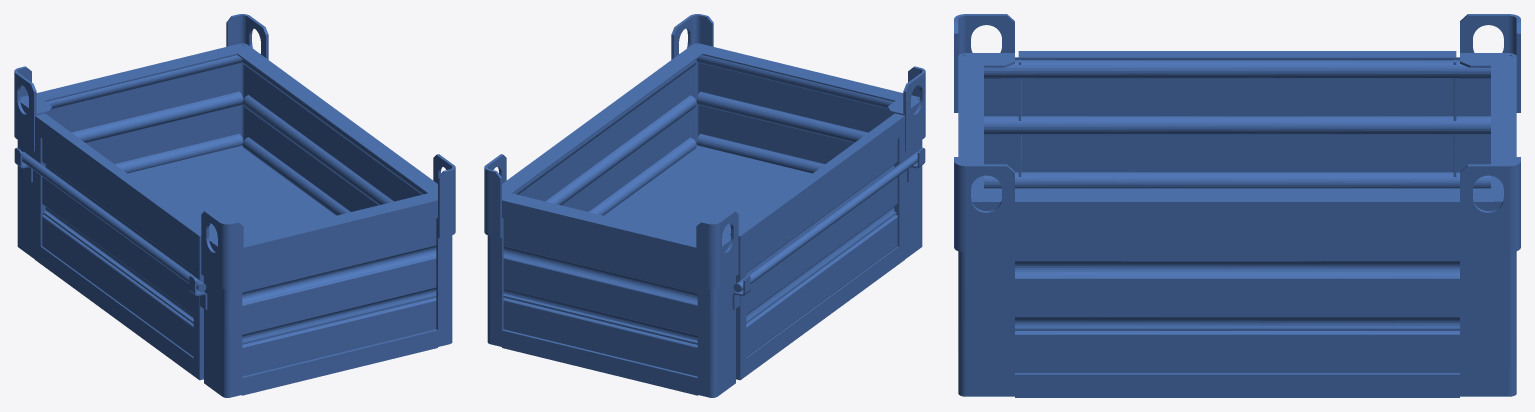
File: becket.dae
3 views of the same model, side by side, from view 1: azimuth 30°, elevation 25°; view 2: azimuth 150°, elevation 25°; view 3: azimuth 270°, elevation 25° (orthographic). The views are drawn at different scales.
Visible parts, largest first — view 1: Container_Empty; view 2: Container_Empty; view 3: Container_Empty.
Part boxes in pixels (x1,y1,x2,y2): Container_Empty: [14, 14, 455, 397]; Container_Empty: [484, 14, 925, 397]; Container_Empty: [954, 14, 1520, 397].
Bounding box in the file's own units: 0.7371 × 1.1 × 0.5.
